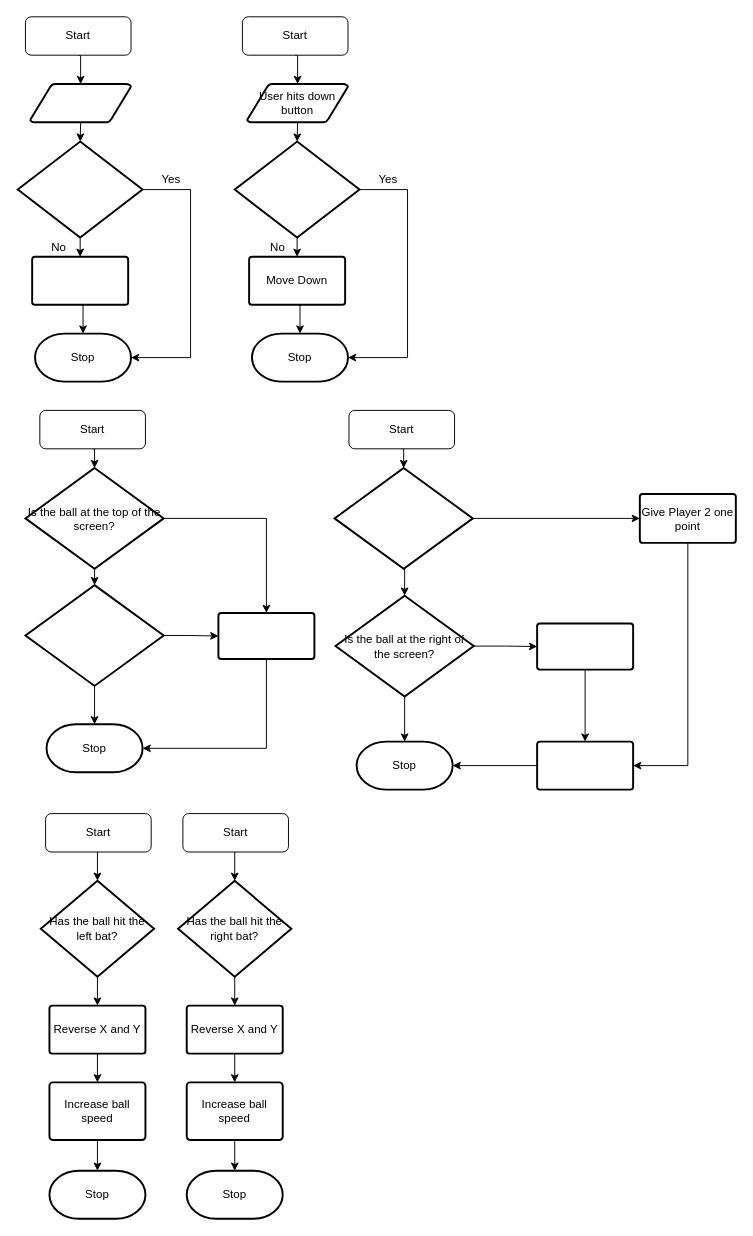
Image size: 753x1236. Some labels were removed from this diagram. Each missing label, with the centre of its shape:
"Give Player 1 one point" goes at (x=585, y=646).
"Is Player at top of screen?" goes at (x=79, y=189).
"Is the ball at the bottom of the screen?" goes at (x=94, y=635).
"Is the ball on the left of the screen?" goes at (x=403, y=518).
"Is the player at the bottom of the screen?" goes at (x=296, y=189).
"Move Up" goes at (x=80, y=280).
"Reset ball speed and position" goes at (x=585, y=765).
"Reverse Y" goes at (x=266, y=636).
"User hits up button" goes at (x=80, y=103).
